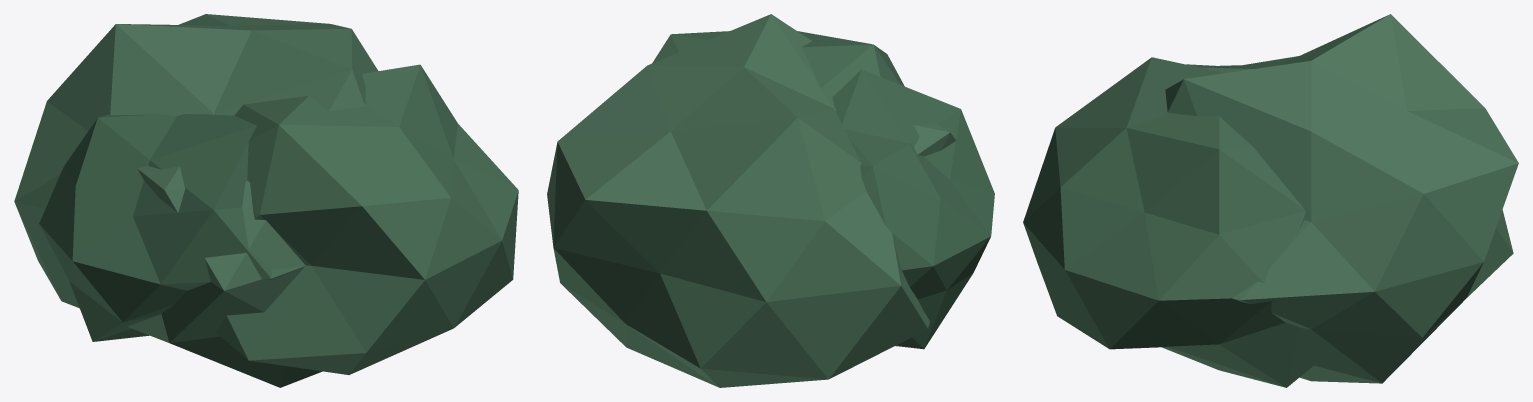
The model's file is bush.glb.
3 renders of one model, left to right at view 1: azimuth 30°, elevation 25°; view 2: azimuth 150°, elevation 25°; view 3: azimuth 270°, elevation 25°, orthographic. The views are drawn at different scales.
Visible parts, largest first — view 1: bush; view 2: bush; view 3: bush.
Boxes of the visible parts, x1,y1,x2,y2 form: bush: (14,14,518,387); bush: (547,14,994,387); bush: (1023,14,1518,387).
Size of the model in its own units: 1.06 by 0.8069 by 1.13.
Materials: 1 (1 with a texture image).
